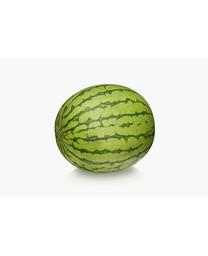watermelon: (55, 82, 157, 175)
